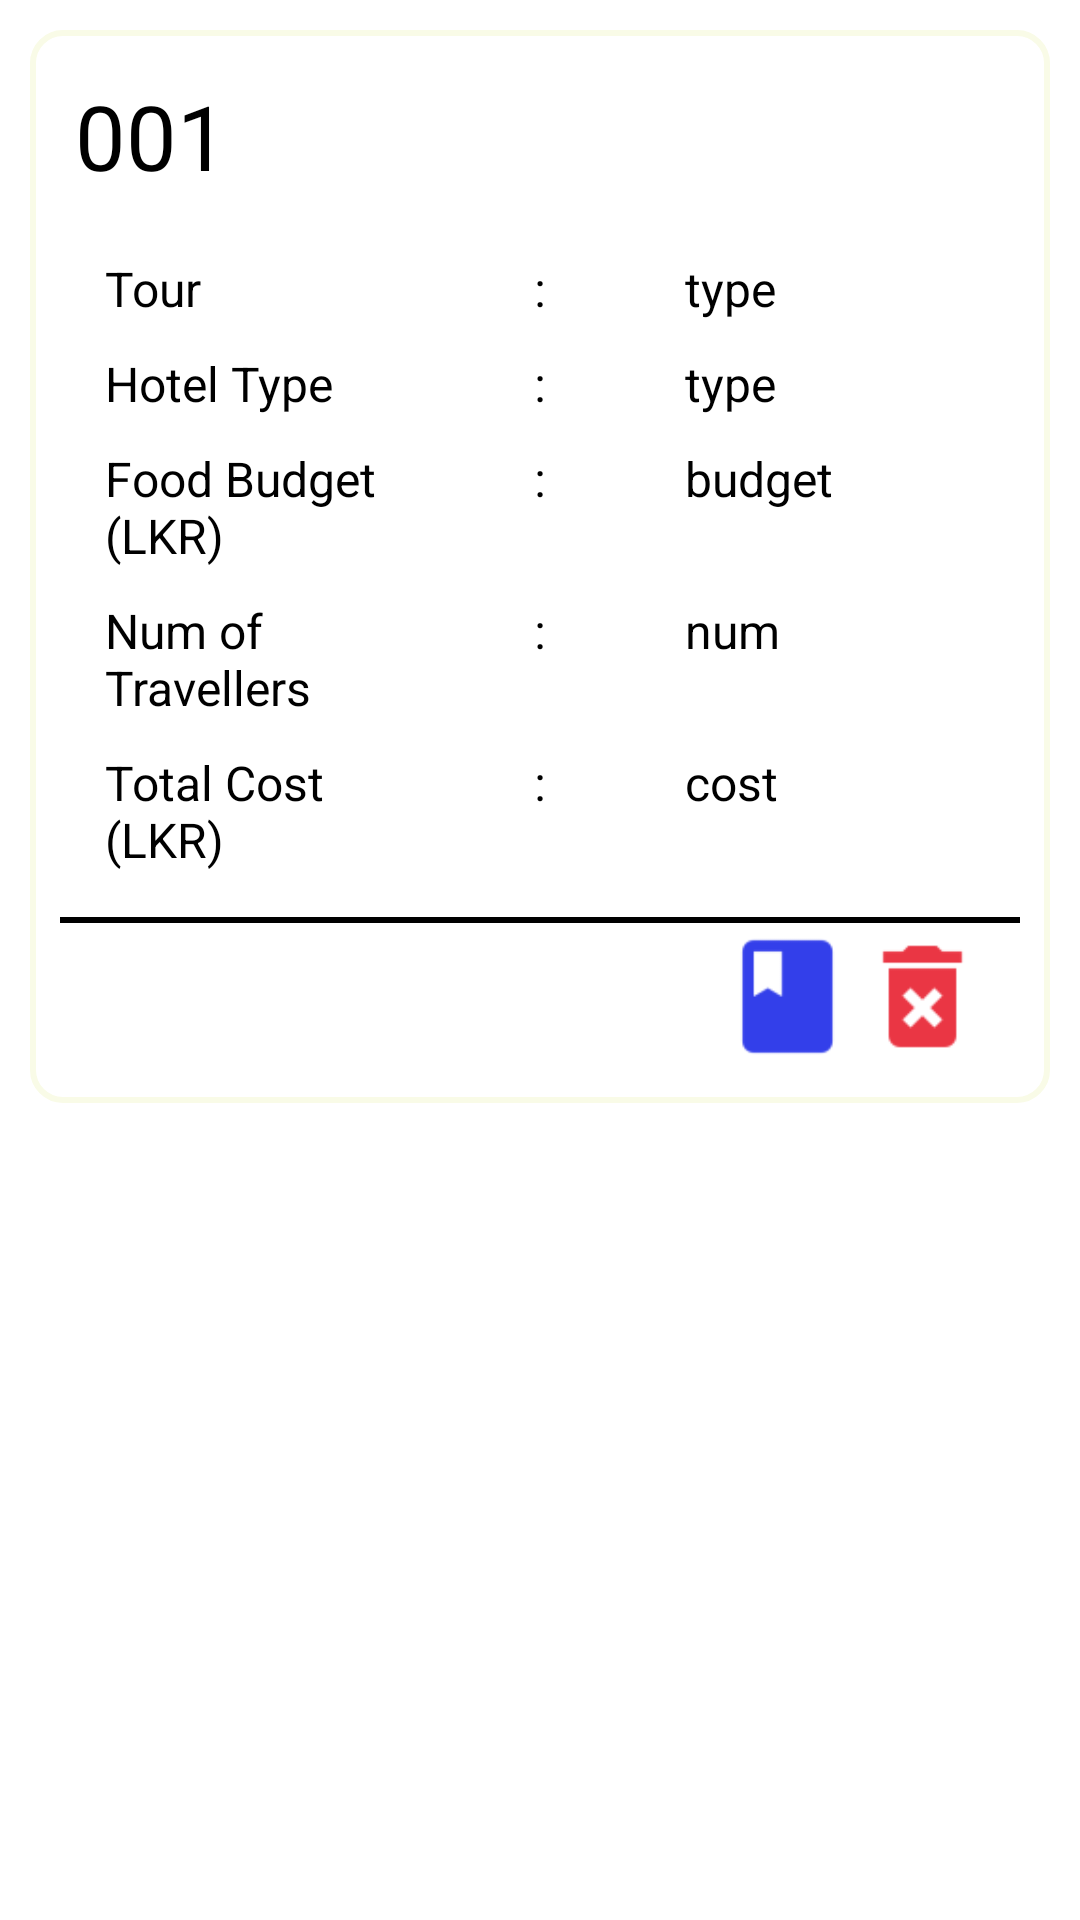

Icons on this 1080*1920 Android screen, each with its box as {"left": x1, "top": y1, "right": x2, "bottom": y2}:
book: {"left": 742, "top": 939, "right": 833, "bottom": 1054}
delete: {"left": 882, "top": 945, "right": 963, "bottom": 1048}
